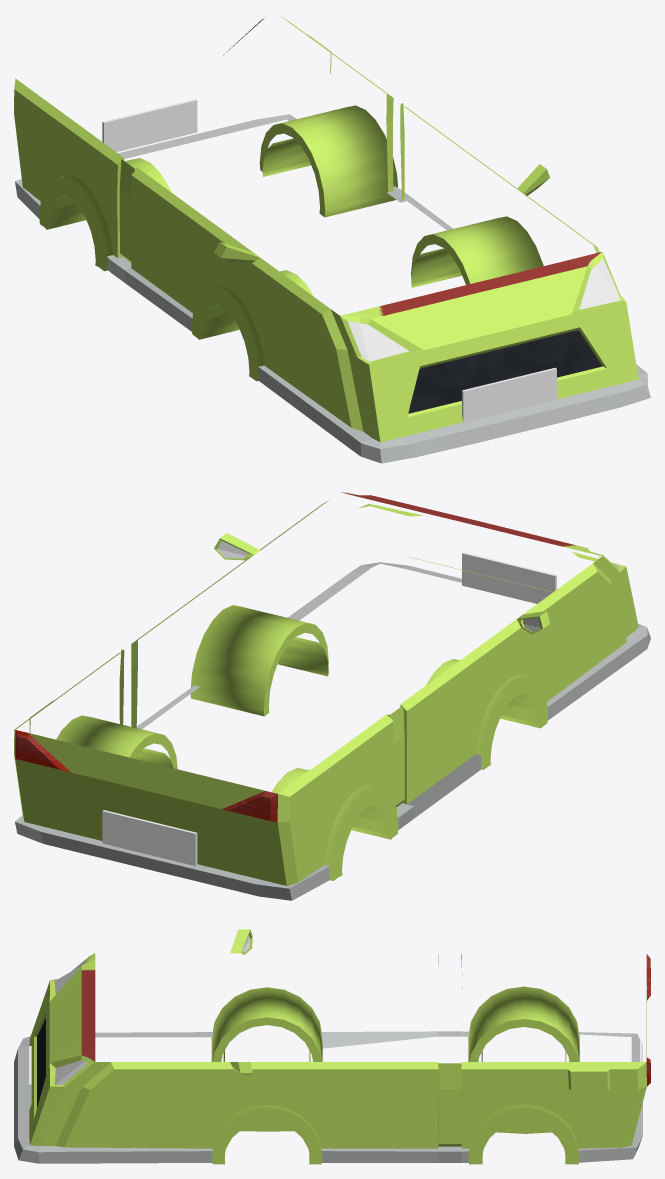
File: SPORT-BOTTOM-pWkvgmaK.glb
The picture shows the model from 3 angles, top to bottom: view 1: azimuth 30°, elevation 25°; view 2: azimuth 150°, elevation 25°; view 3: azimuth 270°, elevation 25°; orthographic projection. The views are drawn at different scales.
Bounding box in the file's own units: 1.88 × 0.7001 × 3.71.
Materials: 2 (2 with a texture image).
